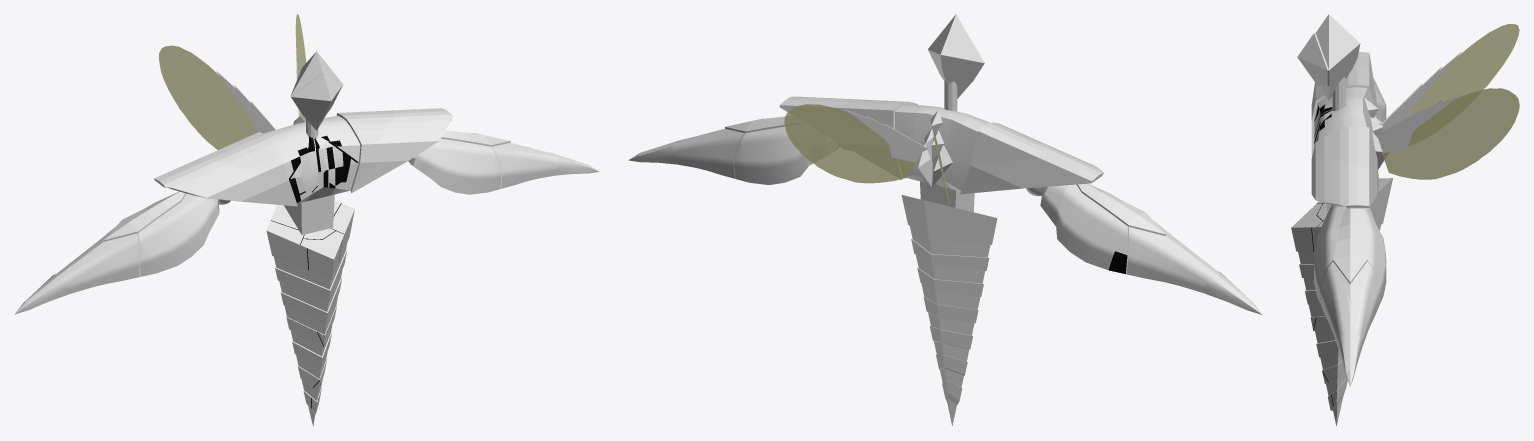
The picture shows the model from 3 angles, left to right: view 1: azimuth 30°, elevation 25°; view 2: azimuth 150°, elevation 25°; view 3: azimuth 270°, elevation 25°; orthographic projection. The views are drawn at different scales.
Parts seen in each view (by area): view 1: NO_3; view 2: NO_3; view 3: NO_3.
Part boxes in pixels (left/top/right/bottom): NO_3: left=14, top=14, right=599, bottom=426; NO_3: left=628, top=14, right=1262, bottom=426; NO_3: left=1291, top=14, right=1519, bottom=426.
Size of the model in its own units: 1.01 by 0.6263 by 0.3143.
